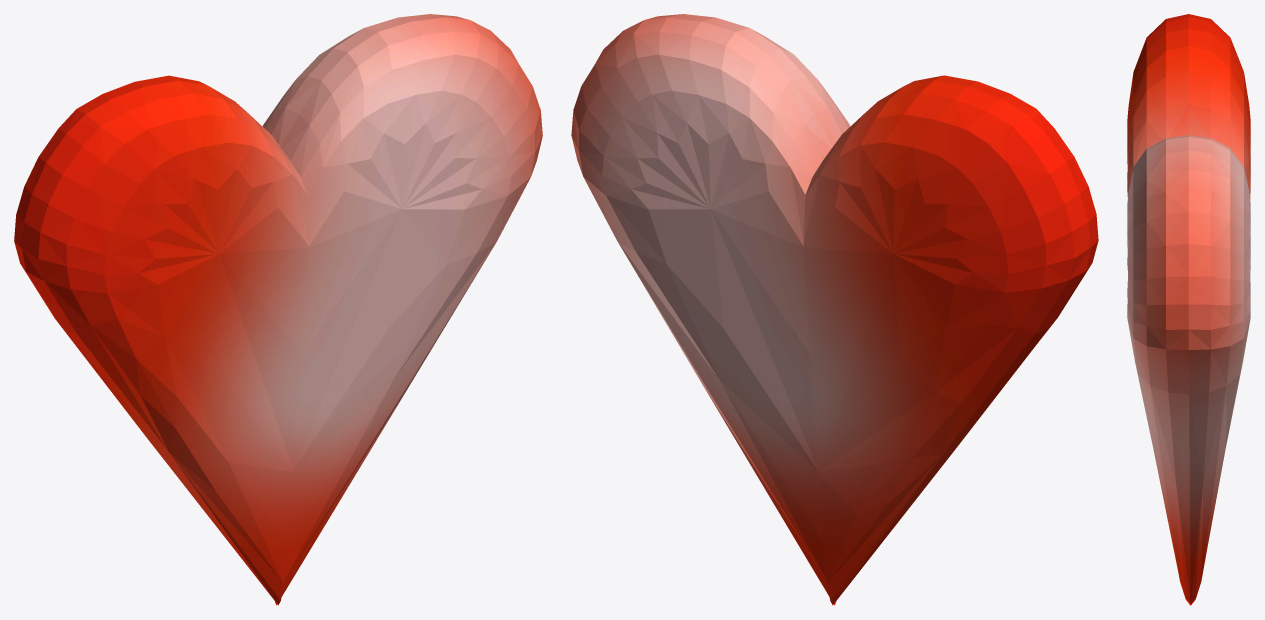
File: Heart.glb
3 views of the same model, side by side, from view 1: azimuth 30°, elevation 25°; view 2: azimuth 150°, elevation 25°; view 3: azimuth 270°, elevation 25° (orthographic). The views are drawn at different scales.
Visible parts, largest first — view 1: Heart; view 2: Heart; view 3: Heart.
Part boxes in pixels (x1,y1,x2,y2): Heart: (14, 14, 542, 605); Heart: (571, 14, 1098, 605); Heart: (1127, 14, 1250, 605).
Size of the model in its own units: 46.49 by 47.87 by 10.39.
1 material, 1 textured.
